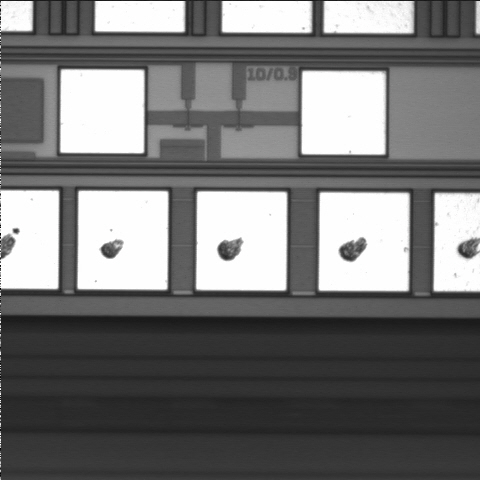pad: (196, 192, 287, 290), (78, 191, 168, 290), (319, 193, 409, 291), (60, 70, 144, 153), (302, 71, 385, 154)
